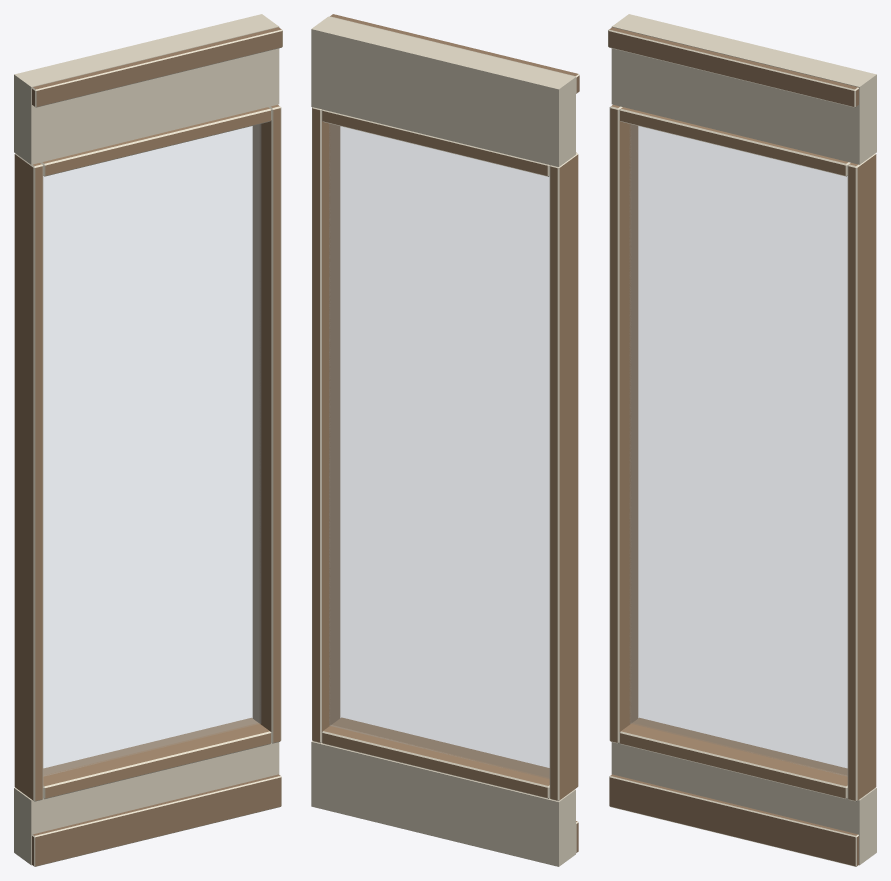
File: ventanal_300.glb
3 views of the same model, side by side, from view 1: azimuth 30°, elevation 25°; view 2: azimuth 150°, elevation 25°; view 3: azimuth 330°, elevation 25° (orthographic).
Parts seen in each view (by area): view 1: ventanal_300; view 2: ventanal_300; view 3: ventanal_300.
Boxes of the visible parts, box(x1,y1,x2,y2) form: ventanal_300: box(14, 14, 282, 866); ventanal_300: box(311, 14, 579, 866); ventanal_300: box(608, 14, 876, 866).
Bounding box in the file's own units: 1 × 3 × 0.15.
